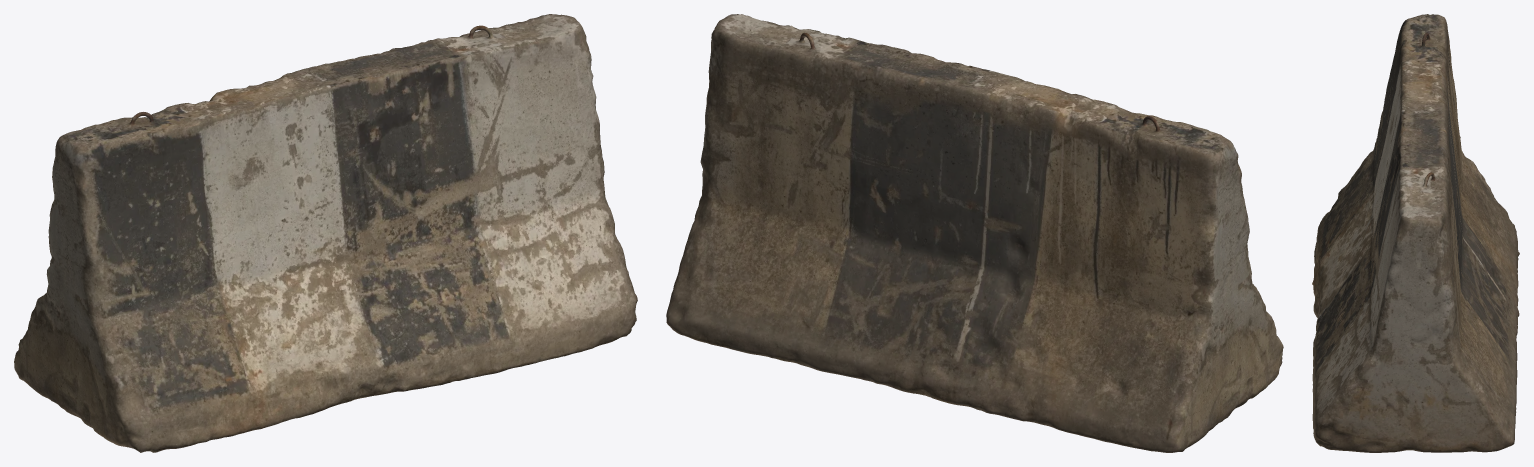
Rendered from concrete_road_barrier.glb.
3 views of the same model, side by side, from view 1: azimuth 30°, elevation 25°; view 2: azimuth 150°, elevation 25°; view 3: azimuth 270°, elevation 25° (orthographic). The views are drawn at different scales.
Parts seen in each view (by area): view 1: concrete_road_barrier; view 2: concrete_road_barrier; view 3: concrete_road_barrier.
Boxes of the visible parts, bbox=[...] form: concrete_road_barrier: bbox=[14, 14, 637, 452]; concrete_road_barrier: bbox=[666, 14, 1283, 452]; concrete_road_barrier: bbox=[1312, 14, 1519, 452].
Bounding box in the file's own units: 1.55 × 0.831 × 0.6387.
Materials: 1 (1 with a texture image).
